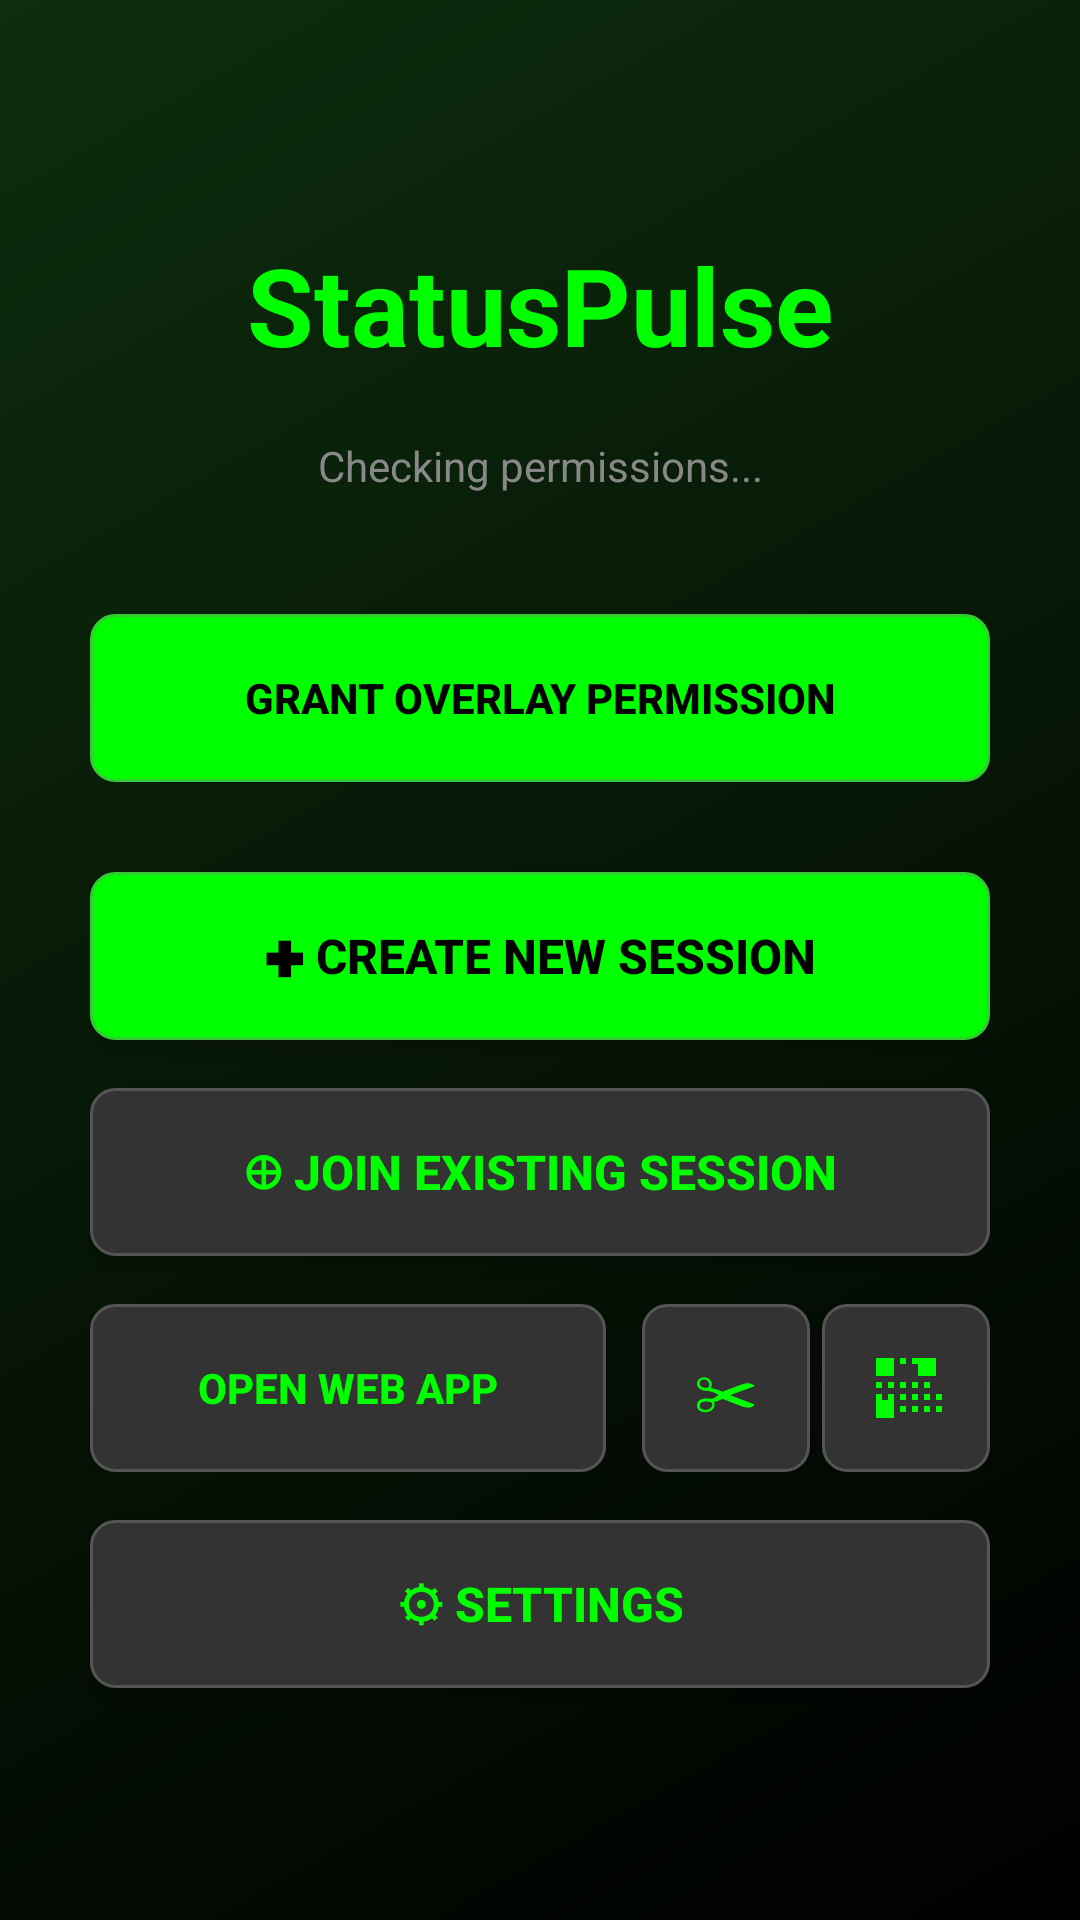

Named icons in this screenshot (1080×1920) and their bounding boxes, (x1, y1, x2, y2):
Share QR Code: (822, 1304, 990, 1472)
